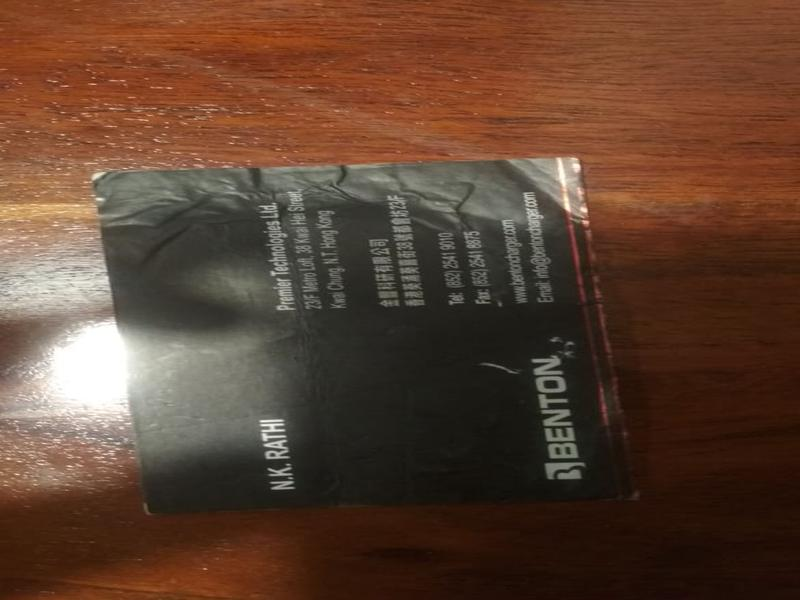card: (95, 159, 635, 519)
